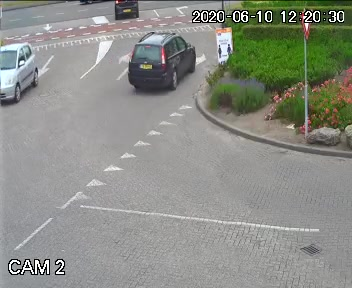car: (126, 27, 197, 95), (0, 36, 44, 109), (108, 0, 144, 20)
